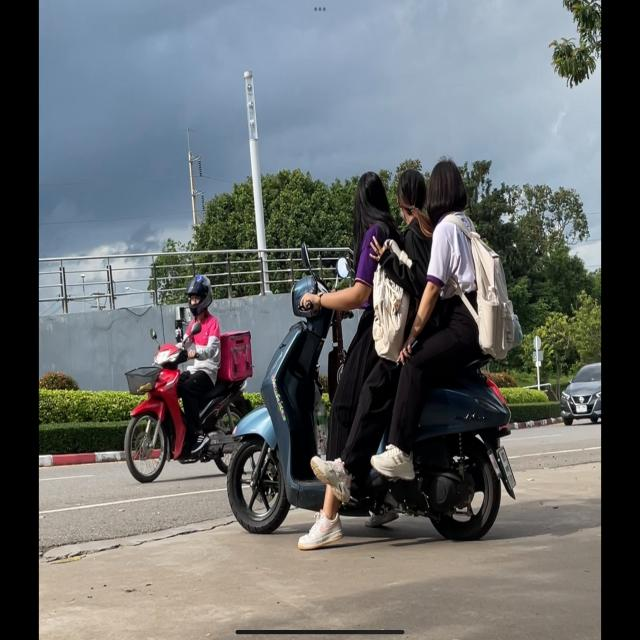no-seatbelt: (184, 273, 215, 319)
seatbelt: (427, 158, 465, 218), (352, 170, 388, 228), (395, 167, 426, 224)
